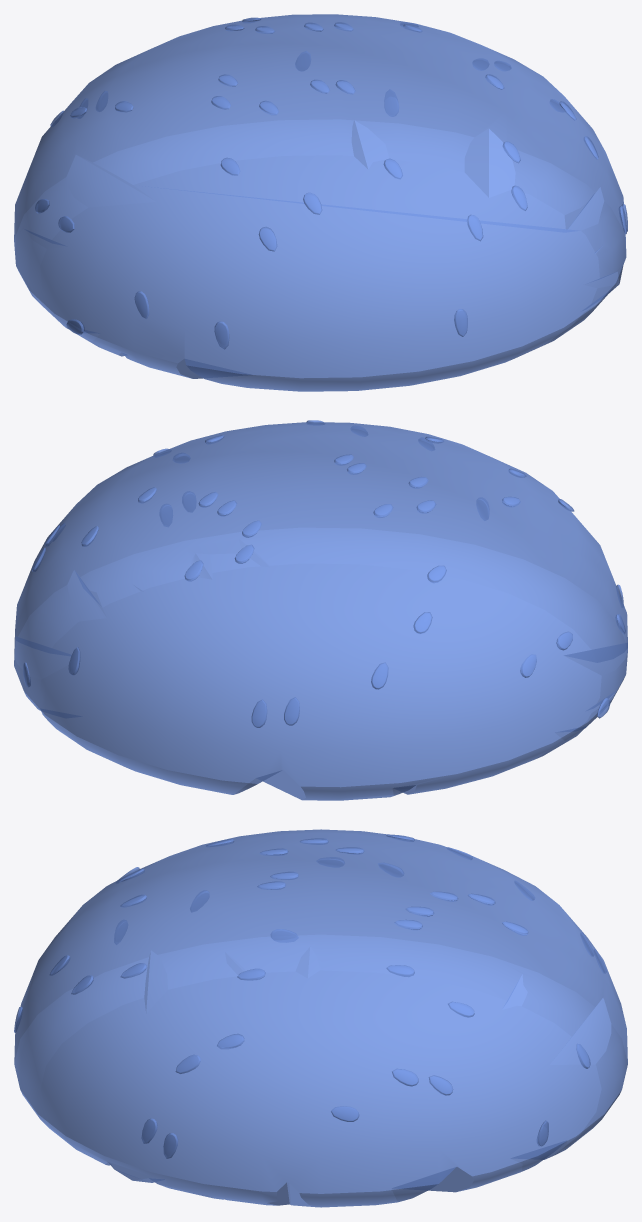
Rendered from Burger_skin_ICE TOP.fbx.
3 renders of one model, top to bottom at view 1: azimuth 30°, elevation 25°; view 2: azimuth 150°, elevation 25°; view 3: azimuth 270°, elevation 25°, orthographic.
Parts seen in each view (by area): view 1: Burger Bread A.001; view 2: Burger Bread A.001; view 3: Burger Bread A.001.
Boxes of the visible parts, <box> form: Burger Bread A.001: <box>14,14,627,391</box>; Burger Bread A.001: <box>14,420,627,800</box>; Burger Bread A.001: <box>14,829,627,1207</box>.
Bounding box in the file's own units: 74.72 × 28.3 × 74.76.
